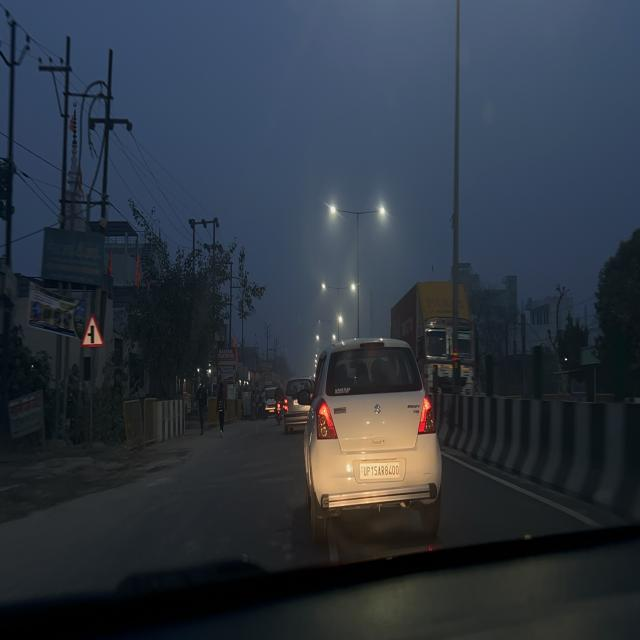SIDE_ROAD_LEFT: (80, 312, 104, 348)
